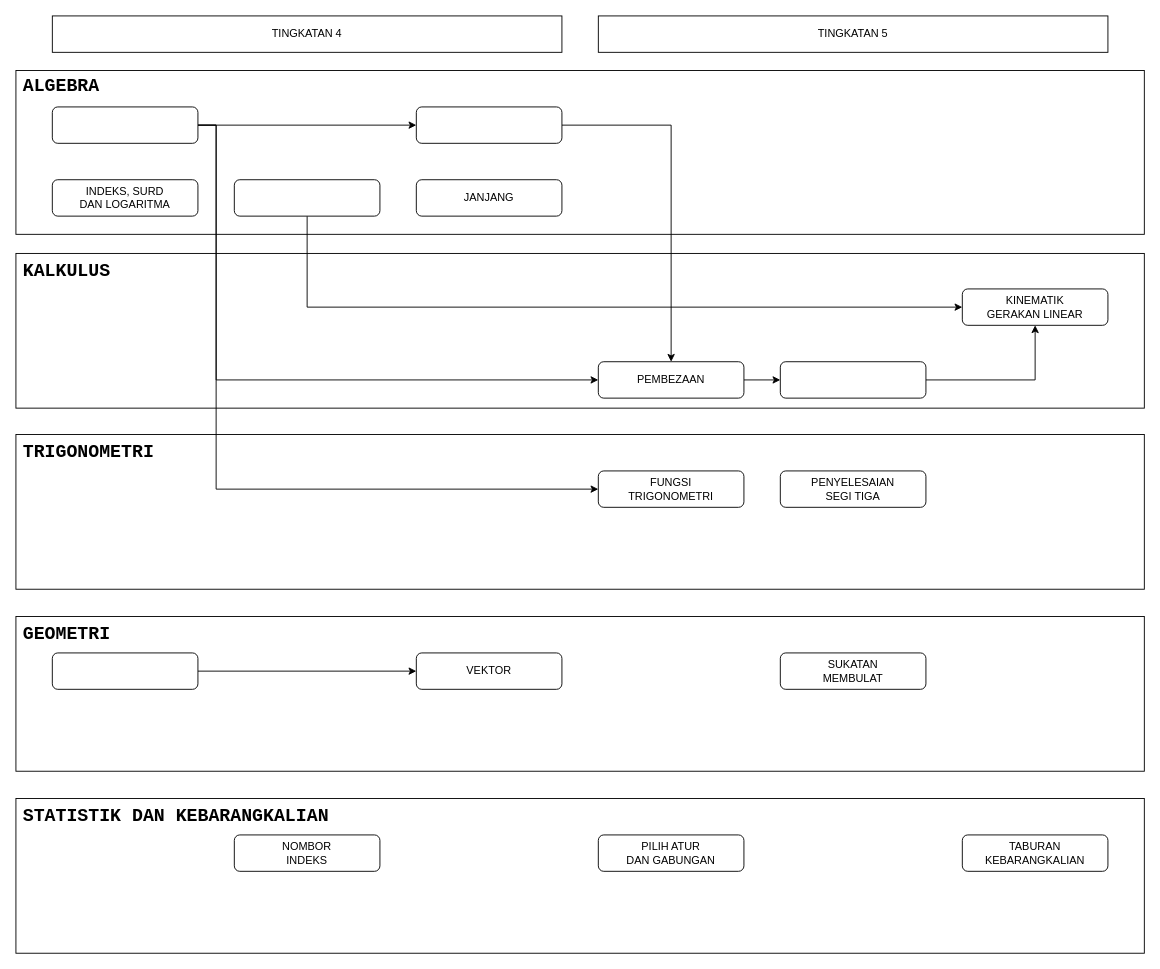
Some shapes in this 1160 by 969 pixel diagram are drawn without their labels. The centre of each missing label's shape, as x and y in pixels:
"FUNGSI" goes at [124,124].
"FUNGSI KUADRATIK" goes at [488,124].
"GEOMETRI KOORDINAT" goes at [124,670].
"PENGAMIRAN" goes at [852,379].
"SISTEM PERSAMAAN" goes at [306,197].
